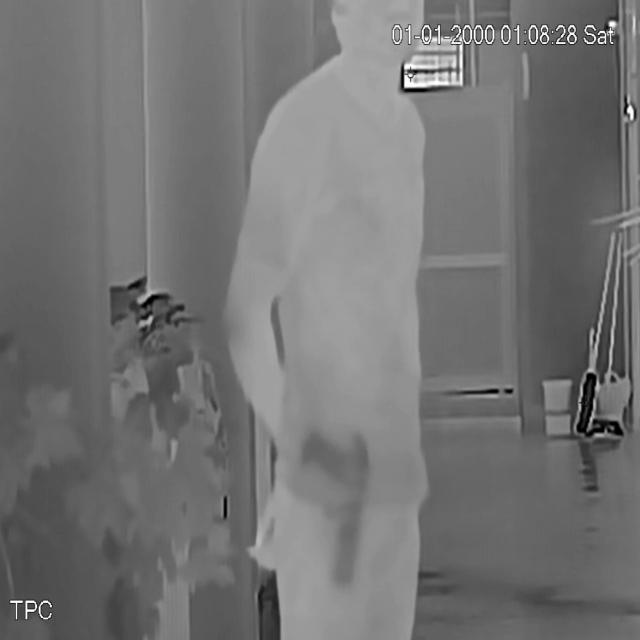Weapon: (289, 416, 383, 601)
